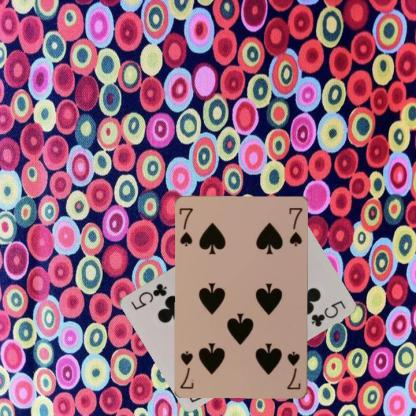7s: (177, 205, 194, 248), (285, 349, 302, 391)
